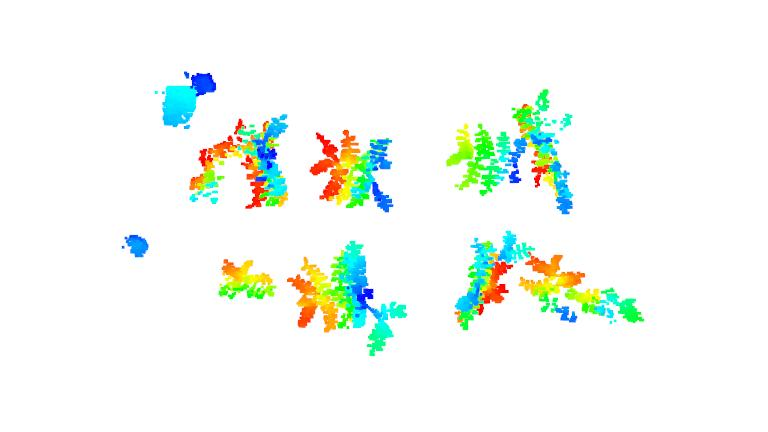chickpea: (286, 238, 412, 361), (183, 112, 292, 219), (519, 251, 646, 329), (512, 87, 583, 219), (449, 229, 536, 331), (306, 128, 399, 213), (444, 122, 528, 197), (217, 256, 279, 305)
